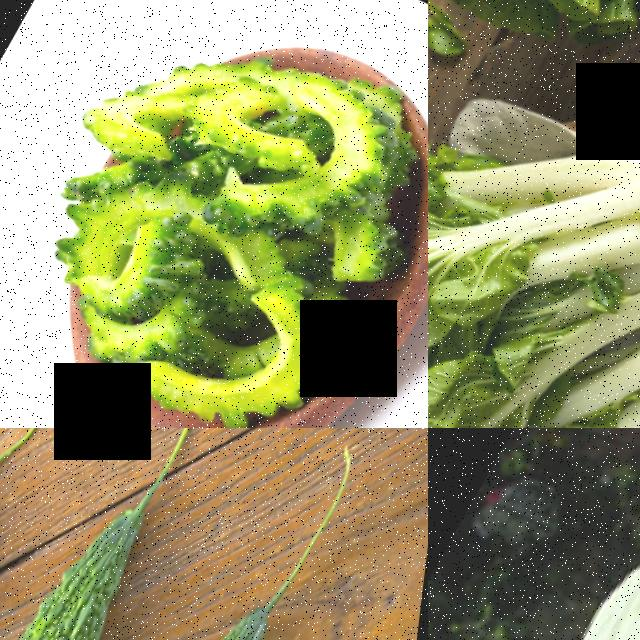bitter gourd: (0, 478, 201, 640)
bok choy: (428, 0, 640, 428), (463, 257, 640, 428)
cabbage: (440, 428, 640, 640)
